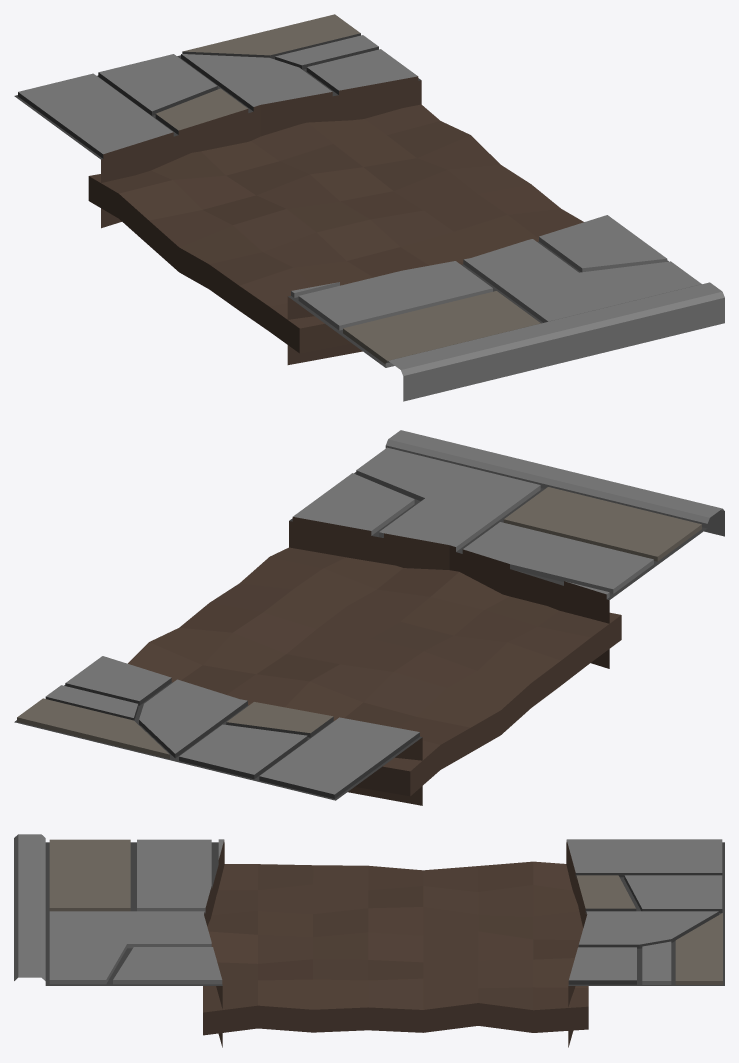
The model's file is Walkway Modern Hole A - 2.fbx.
3 views of the same model, one above another, from view 1: azimuth 30°, elevation 25°; view 2: azimuth 150°, elevation 25°; view 3: azimuth 270°, elevation 25° (orthographic). The views are drawn at different scales.
Visible parts, largest first — view 1: Walkway Modern Hole A - 2.001; view 2: Walkway Modern Hole A - 2.001; view 3: Walkway Modern Hole A - 2.001.
Part boxes in pixels (x1=…): Walkway Modern Hole A - 2.001: x1=14, y1=14, x2=724, y2=401; Walkway Modern Hole A - 2.001: x1=14, y1=430, x2=724, y2=805; Walkway Modern Hole A - 2.001: x1=14, y1=834, x2=724, y2=1047.
Bounding box in the file's own units: 305 × 639 × 70.48.
